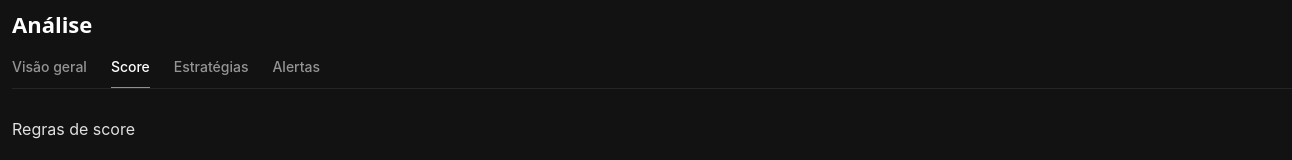
Análise › trata Score e Alertas como guias da mesma tela no mobile
Expected: the number of headings "Análise" is 1, [12,8,92,41]
Click the tab "Alertas": (296, 66) [272,58,320,75]
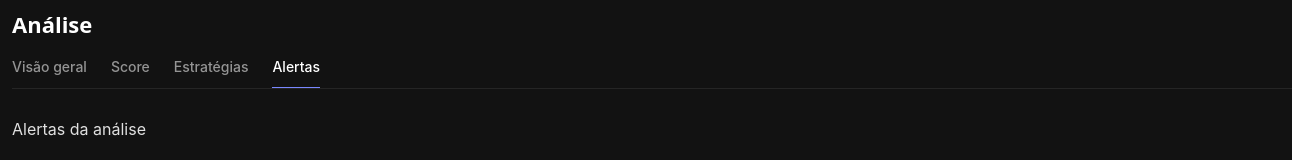
Expected: the text "Alertas da análise" is shown, [12,119,146,139]
